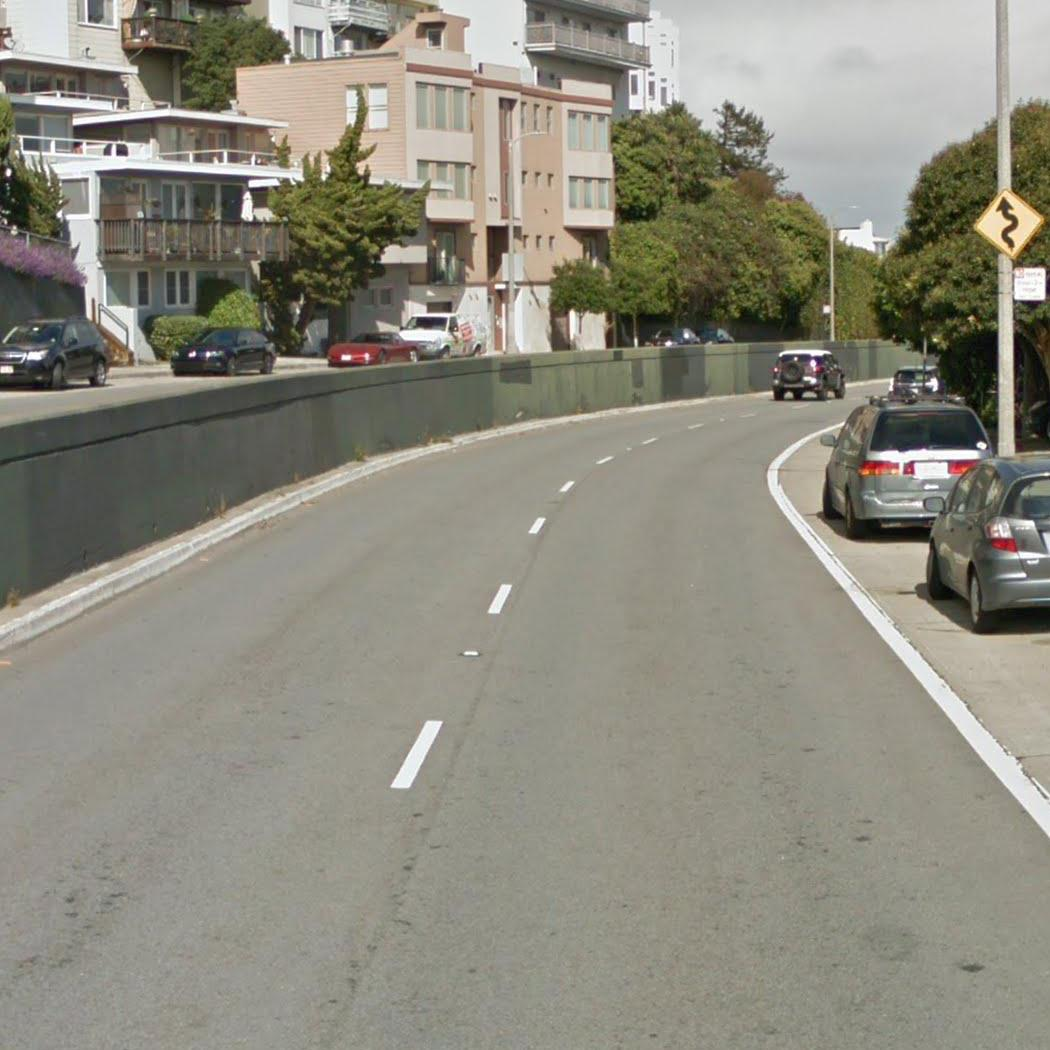No Parking: (1011, 265, 1048, 302)
